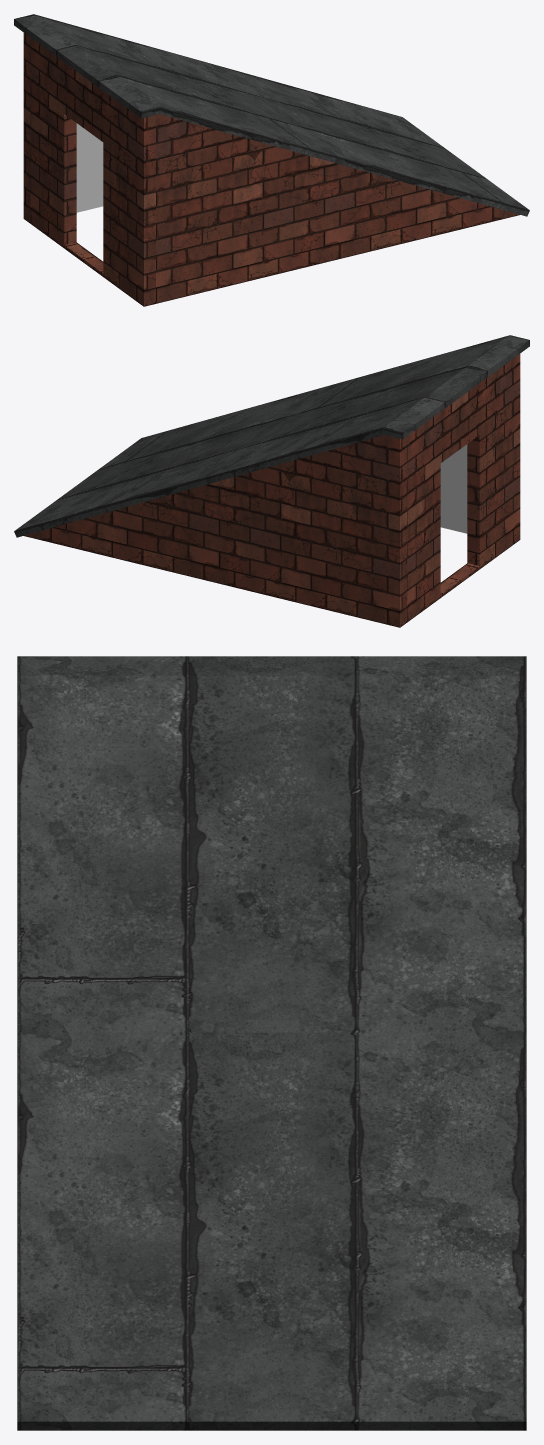
Rendered from rooftopAccess01.FBX.
3 renders of one model, top to bottom at view 1: azimuth 30°, elevation 25°; view 2: azimuth 150°, elevation 25°; view 3: azimuth 270°, elevation 25°, orthographic. The views are drawn at different scales.
Visible parts, largest first — view 1: rooftopAccess01, rooftopAccess01_roof; view 2: rooftopAccess01, rooftopAccess01_roof; view 3: rooftopAccess01_roof.
Boxes of the visible parts, <box> form: rooftopAccess01: <box>23,33,519,306</box>; rooftopAccess01_roof: <box>14,14,529,216</box>; rooftopAccess01: <box>24,354,520,627</box>; rooftopAccess01_roof: <box>14,335,529,537</box>; rooftopAccess01_roof: <box>17,656,526,1430</box>.
Bounding box in the file's own units: 634 × 310 × 360.
